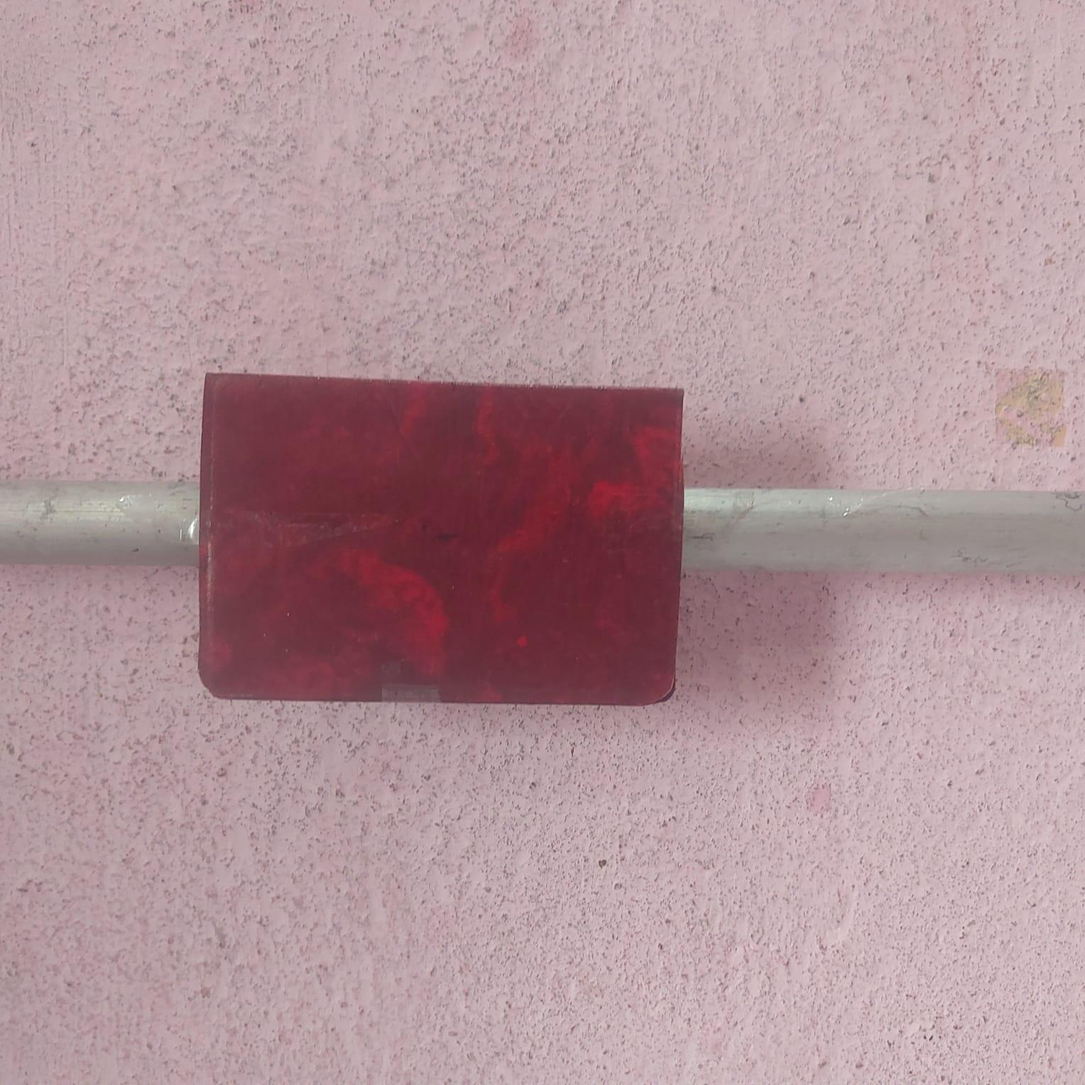wallet: (196, 365, 686, 706)
